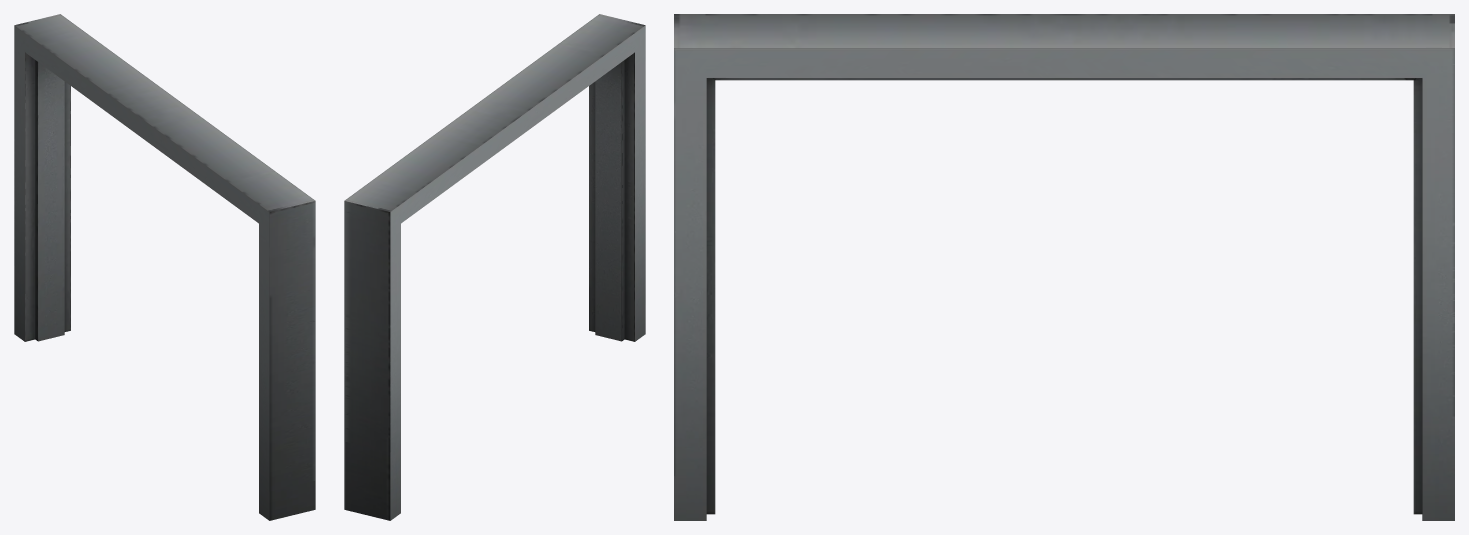
The picture shows the model from 3 angles, left to right: view 1: azimuth 30°, elevation 25°; view 2: azimuth 150°, elevation 25°; view 3: azimuth 270°, elevation 25°; orthographic projection. The views are drawn at different scales.
Visible parts, largest first — view 1: body0_model0_lod0_mesh0; view 2: body0_model0_lod0_mesh0; view 3: body0_model0_lod0_mesh0.
Part boxes in pixels (bbox=[...]): body0_model0_lod0_mesh0: bbox=[14, 14, 315, 520]; body0_model0_lod0_mesh0: bbox=[344, 14, 645, 520]; body0_model0_lod0_mesh0: bbox=[674, 14, 1454, 520].
Size of the model in its own units: 20.02 by 128 by 192.
1 material, 1 textured.
